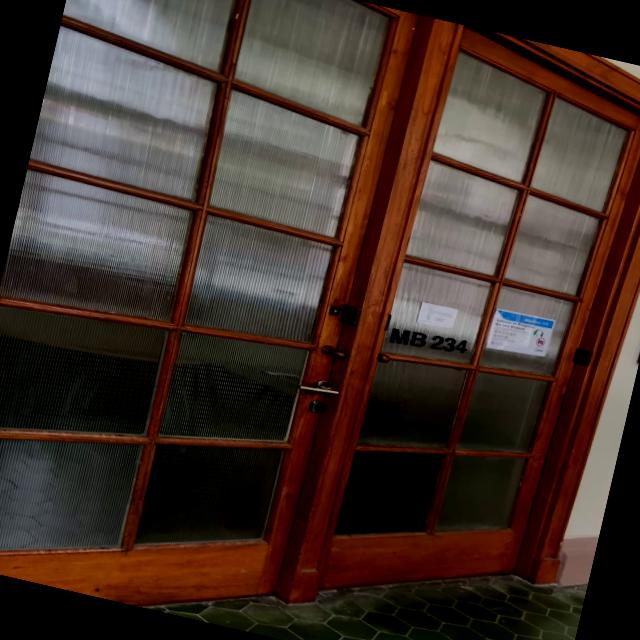room234Window: (380, 318, 474, 364)
